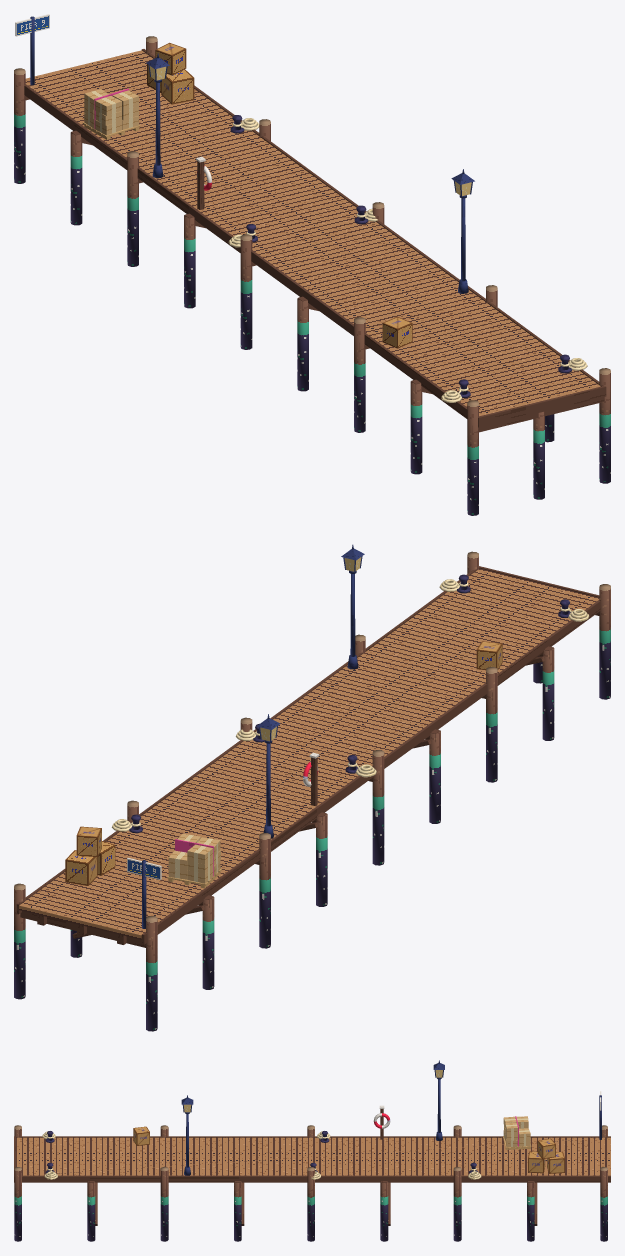
The model's file is Harbor Dock.fbx.
3 views of the same model, one above another, from view 1: azimuth 30°, elevation 25°; view 2: azimuth 150°, elevation 25°; view 3: azimuth 270°, elevation 25° (orthographic). The views are drawn at different scales.
Parts seen in each view (by area): view 1: Harbor Dock deck, Harbor Dock fascia -1, Harbor Dock end board, Harbor Dock piling 4 -1, Harbor Dock fascia 1, Harbor Dock piling 8 -1, Harbor Dock piling 2 -1, Harbor Dock piling 0 -1, Harbor Dock piling 6 -1, Harbor Dock piling 8 1, Harbor Dock piling 7 -1, Harbor Dock piling 1 -1 (+7 smaller); view 2: Harbor Dock deck, Harbor Dock fascia -1, Harbor Dock piling 4 -1, Harbor Dock fascia 1, Harbor Dock piling 6 -1, Harbor Dock piling 0 -1, Harbor Dock piling 2 -1, Harbor Dock piling 8 -1, Harbor Dock piling 0 1, Harbor Dock piling 1 -1, Harbor Dock piling 7 -1, Harbor Dock piling 3 -1 (+5 smaller); view 3: Harbor Dock deck, Harbor Dock fascia 1, Harbor Dock fascia -1, Harbor Dock piling 2 1, Harbor Dock piling 6 1, Harbor Dock piling 0 1, Harbor Dock piling 8 1, Harbor Dock piling 4 1, Harbor Dock piling 3 1, Harbor Dock piling 7 1, Harbor Dock piling 1 1, Harbor Dock piling 5 1 (+4 smaller).
Part boxes in pixels (box(x1,y1,x2,y2)): Harbor Dock deck: box(25, 50, 600, 416); Harbor Dock fascia -1: box(24, 84, 467, 418); Harbor Dock end board: box(478, 386, 606, 427); Harbor Dock piling 4 -1: box(240, 234, 252, 349); Harbor Dock fascia 1: box(141, 49, 602, 386); Harbor Dock piling 8 -1: box(467, 400, 478, 515); Harbor Dock piling 2 -1: box(127, 151, 138, 266); Harbor Dock piling 0 -1: box(14, 68, 25, 183); Harbor Dock piling 6 -1: box(354, 317, 365, 432); Harbor Dock piling 8 1: box(599, 368, 610, 483); Harbor Dock piling 7 -1: box(410, 379, 422, 474); Harbor Dock piling 1 -1: box(70, 131, 82, 225); Harbor Dock deck: box(19, 568, 599, 939); Harbor Dock fascia -1: box(141, 600, 600, 944); Harbor Dock piling 4 -1: box(372, 750, 384, 865); Harbor Dock fascia 1: box(16, 567, 479, 913); Harbor Dock piling 6 -1: box(486, 667, 497, 782); Harbor Dock piling 0 -1: box(146, 916, 157, 1031); Harbor Dock piling 2 -1: box(259, 833, 270, 948); Harbor Dock piling 8 -1: box(599, 584, 610, 699); Harbor Dock piling 0 1: box(14, 883, 25, 999); Harbor Dock piling 1 -1: box(202, 895, 214, 989); Harbor Dock piling 7 -1: box(542, 646, 554, 740); Harbor Dock piling 3 -1: box(316, 812, 327, 906); Harbor Dock deck: box(15, 1137, 610, 1175); Harbor Dock fascia 1: box(22, 1175, 610, 1182); Harbor Dock fascia -1: box(15, 1136, 610, 1137); Harbor Dock piling 2 1: box(453, 1167, 461, 1241); Harbor Dock piling 6 1: box(160, 1167, 168, 1241); Harbor Dock piling 0 1: box(600, 1167, 607, 1241); Harbor Dock piling 8 1: box(14, 1167, 21, 1241); Harbor Dock piling 4 1: box(307, 1167, 314, 1241); Harbor Dock piling 3 1: box(380, 1181, 388, 1241); Harbor Dock piling 7 1: box(87, 1181, 95, 1241); Harbor Dock piling 1 1: box(527, 1181, 534, 1241); Harbor Dock piling 5 1: box(234, 1181, 241, 1241).
Size of the model in its own units: 4.74 by 6.82 by 26.08.
15 materials, 15 textured.
